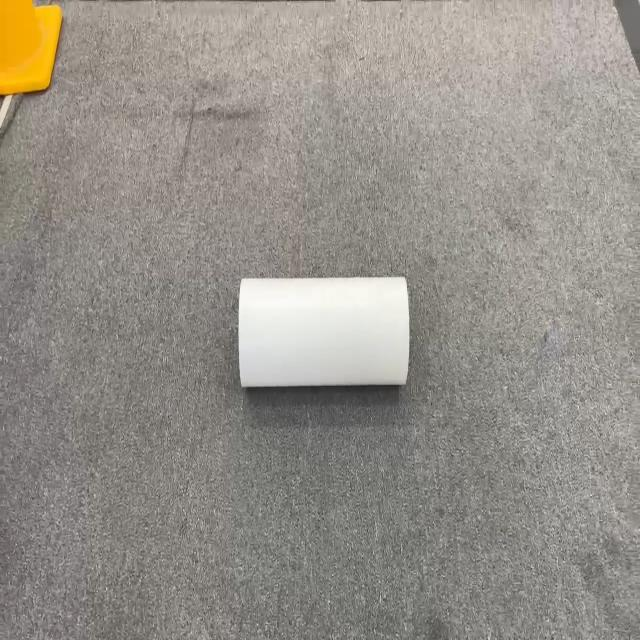coral: (238, 274, 410, 389)
